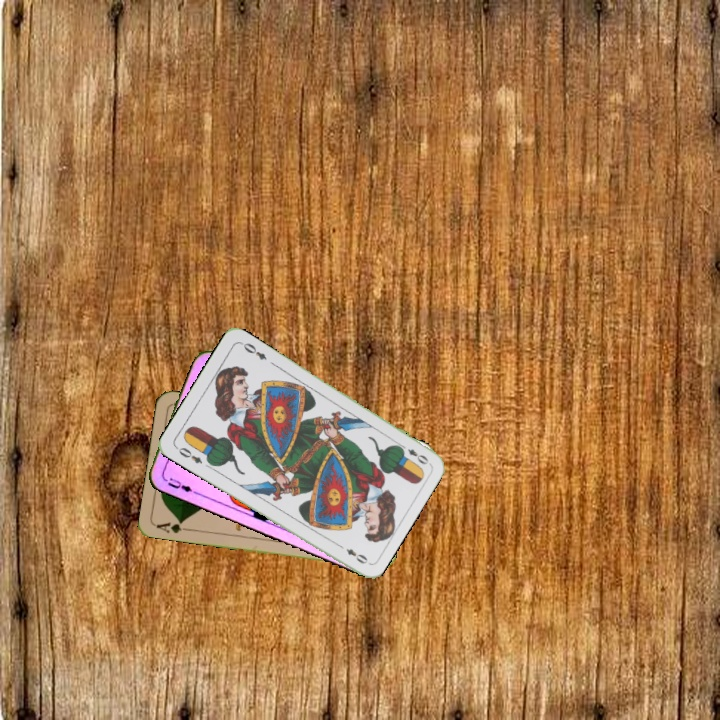EO: (395, 440, 431, 467), (172, 443, 205, 466)
EU: (159, 472, 198, 496)
GA: (152, 517, 193, 536)
